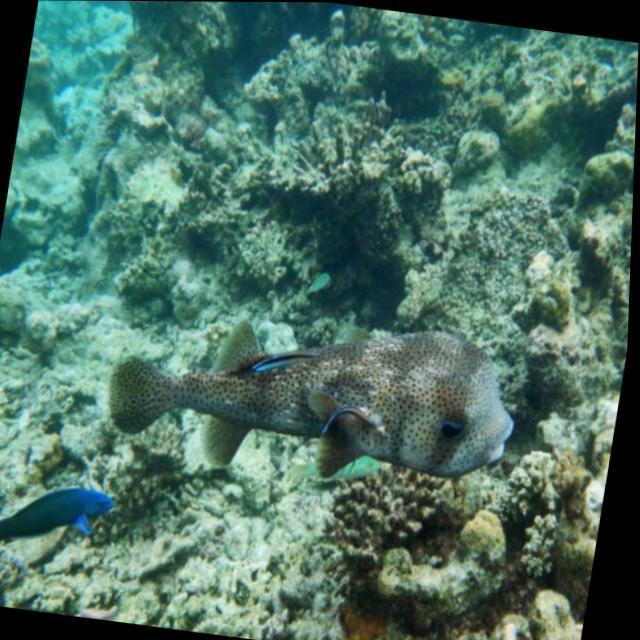Dead Coral: (53, 1, 640, 353), (0, 382, 597, 640)
